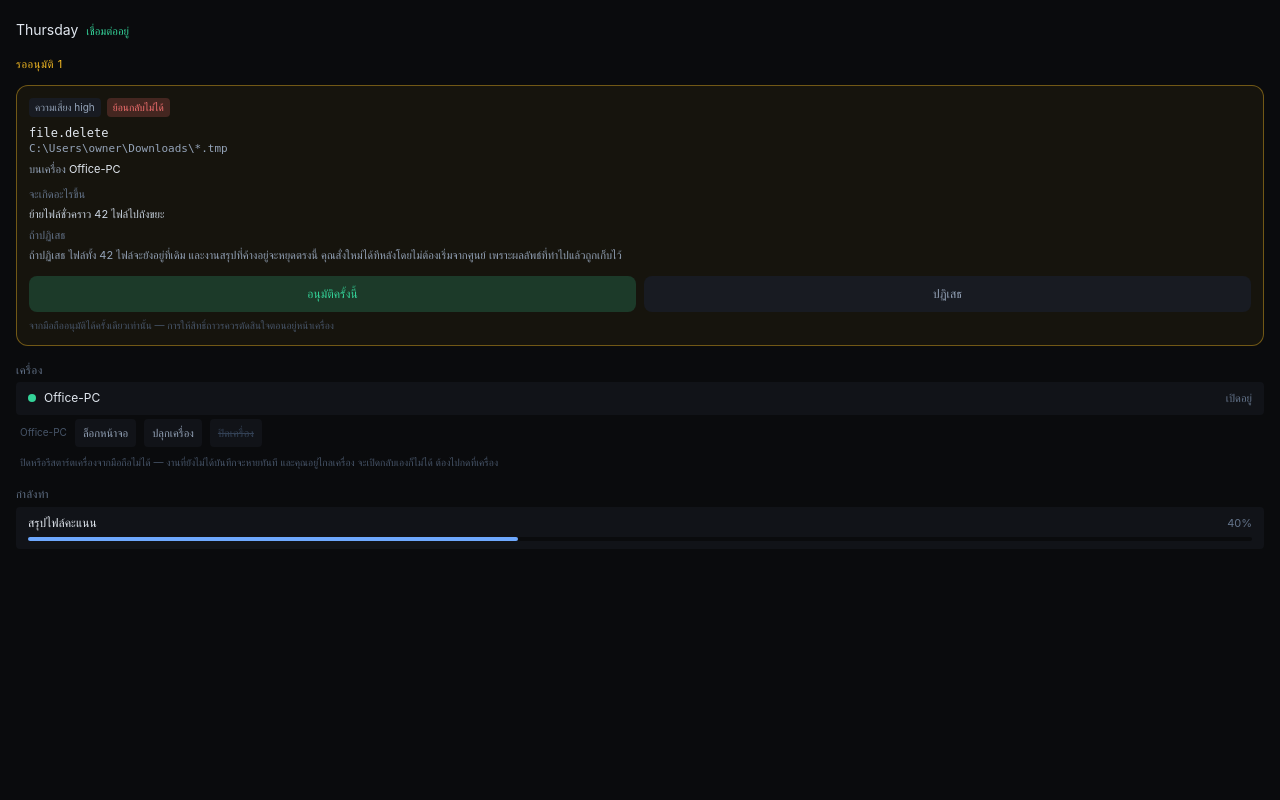
Test case: what a phone may do to a machine › sends the action and says it is done when it ran
This screenshot has width=1280, height=800.
Step 1. Click the button "ล็อกหน้าจอ" → (106, 433), box [75, 418, 136, 447]
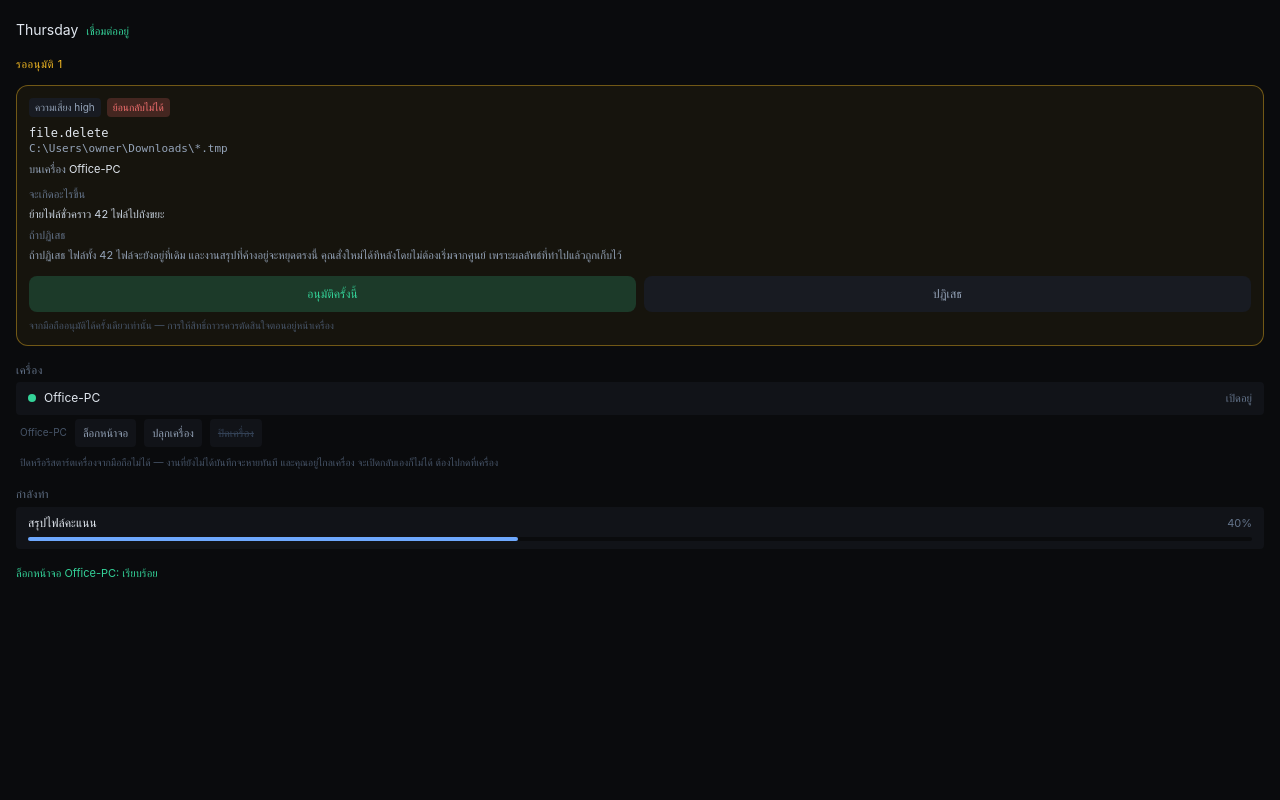
expect the text "ล็อกหน้าจอ Office-PC: เรียบร้อย" is shown: met, box [16, 566, 158, 580]
